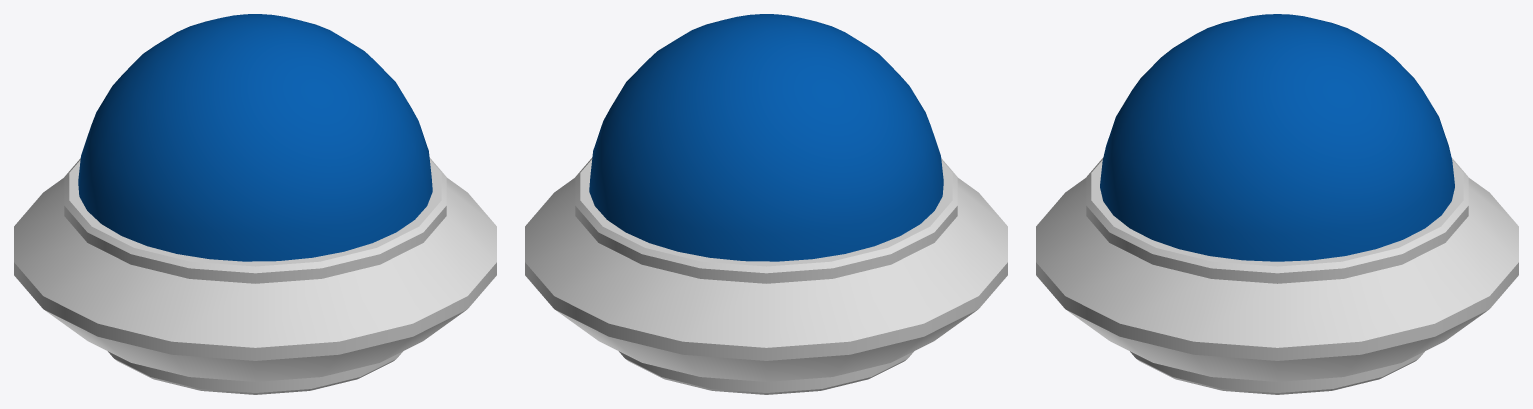
Rendered from Alien_Saucer.FBX.
3 renders of one model, left to right at view 1: azimuth 30°, elevation 25°; view 2: azimuth 150°, elevation 25°; view 3: azimuth 270°, elevation 25°, orthographic.
Visible parts, largest first — view 1: Sphere001, Cylinder001; view 2: Sphere001, Cylinder001; view 3: Sphere001, Cylinder001.
Part boxes in pixels (x1=…): Sphere001: x1=78, y1=14, x2=432, y2=261; Cylinder001: x1=14, y1=157, x2=496, y2=394; Sphere001: x1=589, y1=14, x2=943, y2=261; Cylinder001: x1=525, y1=157, x2=1007, y2=394; Sphere001: x1=1100, y1=14, x2=1454, y2=261; Cylinder001: x1=1036, y1=158, x2=1518, y2=394.
Size of the model in its own units: 491 by 328 by 483.
